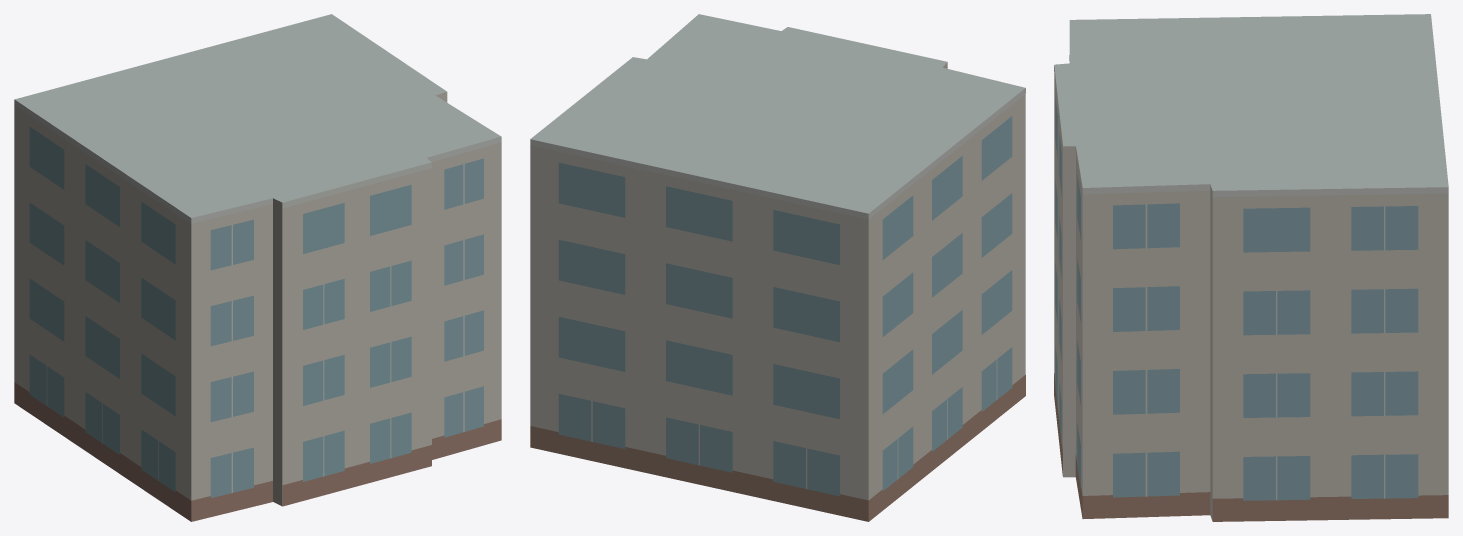
The model's file is survey-upis-33038820.glb.
3 renders of one model, left to right at view 1: azimuth 30°, elevation 25°; view 2: azimuth 150°, elevation 25°; view 3: azimuth 270°, elevation 25°, orthographic. The views are drawn at different scales.
Visible parts, largest first — view 1: survey-upis-33038820.tmp; view 2: survey-upis-33038820.tmp; view 3: survey-upis-33038820.tmp.
Boxes of the visible parts, left/top/right/bottom form: survey-upis-33038820.tmp: left=14, top=14, right=501, bottom=521; survey-upis-33038820.tmp: left=530, top=14, right=1025, bottom=521; survey-upis-33038820.tmp: left=1054, top=14, right=1448, bottom=521.
Bounding box in the file's own units: 14.67 × 12.8 × 13.84.
